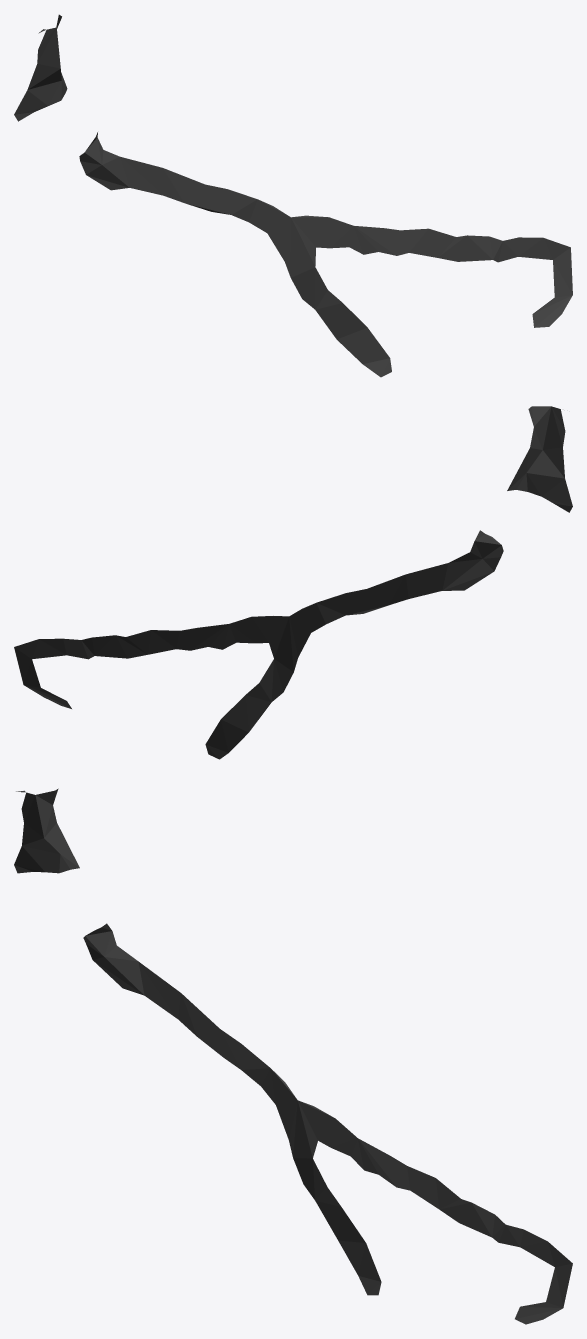
Rendered from A_phrenicoabdominal_R_A_phrenicoabdominal_R.glb.
3 views of the same model, one above another, from view 1: azimuth 30°, elevation 25°; view 2: azimuth 150°, elevation 25°; view 3: azimuth 330°, elevation 25° (orthographic). The views are drawn at different scales.
Parts seen in each view (by area): view 1: A_phrenicoabdominal_R_A_phrenicoabdominal_R; view 2: A_phrenicoabdominal_R_A_phrenicoabdominal_R; view 3: A_phrenicoabdominal_R_A_phrenicoabdominal_R.
Part boxes in pixels (bbox=[...]): A_phrenicoabdominal_R_A_phrenicoabdominal_R: bbox=[14, 14, 572, 377]; A_phrenicoabdominal_R_A_phrenicoabdominal_R: bbox=[14, 406, 572, 759]; A_phrenicoabdominal_R_A_phrenicoabdominal_R: bbox=[14, 788, 572, 1324].
Bounding box in the file's own units: 0.0309 × 0.0229 × 0.0021.
Materials: 1 (1 with a texture image).
